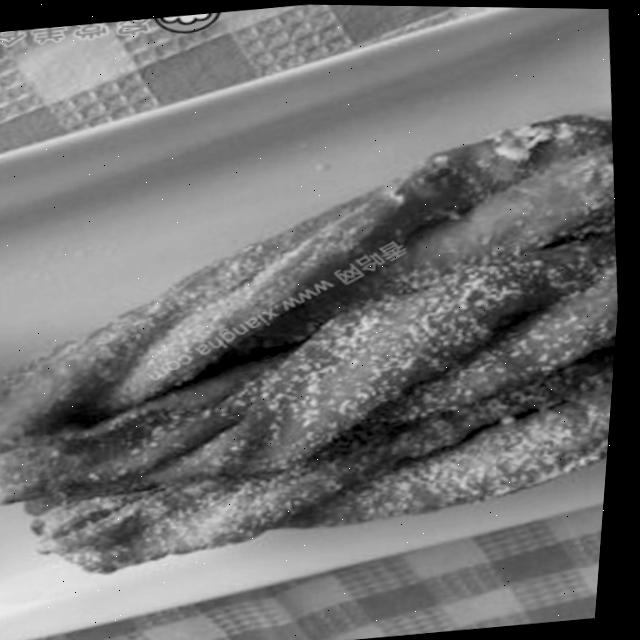炸货点心: (0, 82, 635, 622)
